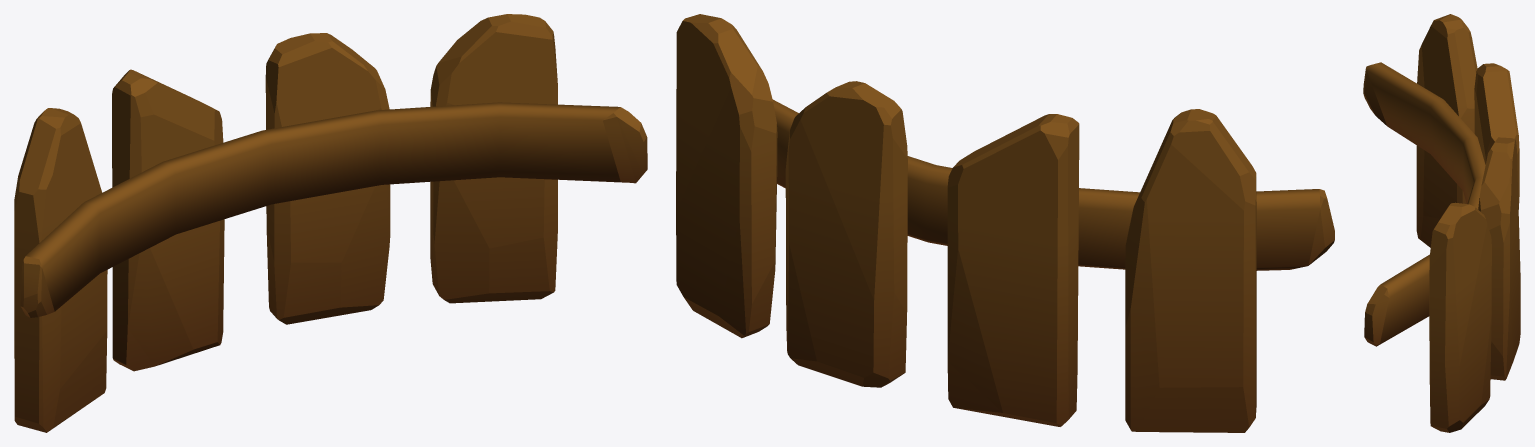
File: WoodFence04.fbx
3 views of the same model, side by side, from view 1: azimuth 30°, elevation 25°; view 2: azimuth 150°, elevation 25°; view 3: azimuth 270°, elevation 25° (orthographic). The views are drawn at different scales.
Visible parts, largest first — view 1: LOD0; view 2: LOD0; view 3: LOD0.
Part boxes in pixels (<box>): LOD0: <box>14,14,647,432</box>; LOD0: <box>676,14,1334,432</box>; LOD0: <box>1363,14,1520,432</box>.
Size of what is drawn, in the model's own units: 336 by 94.61 by 153.
